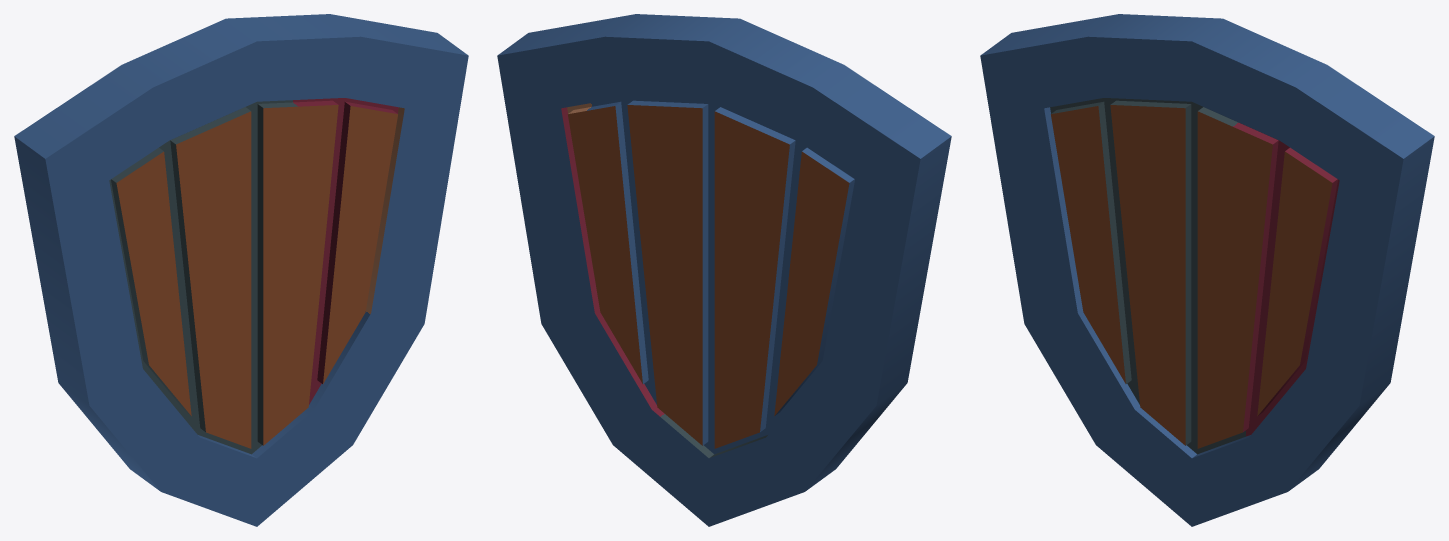
Rendered from shield blockout text.fbx.
3 views of the same model, side by side, from view 1: azimuth 30°, elevation 25°; view 2: azimuth 150°, elevation 25°; view 3: azimuth 330°, elevation 25° (orthographic).
Visible parts, largest first — view 1: Cube.001; view 2: Cube.001; view 3: Cube.001.
Boxes of the visible parts, x1,y1,x2,y2 form: Cube.001: (14, 14, 468, 526); Cube.001: (497, 14, 951, 526); Cube.001: (980, 14, 1434, 526).
Bounding box in the file's own units: 30.1 × 32.99 × 3.9.
